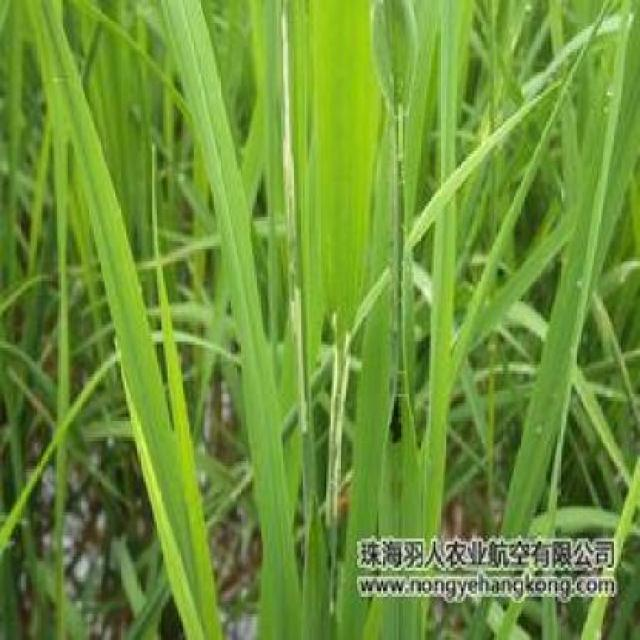leaf-folder: (380, 99, 425, 481)
